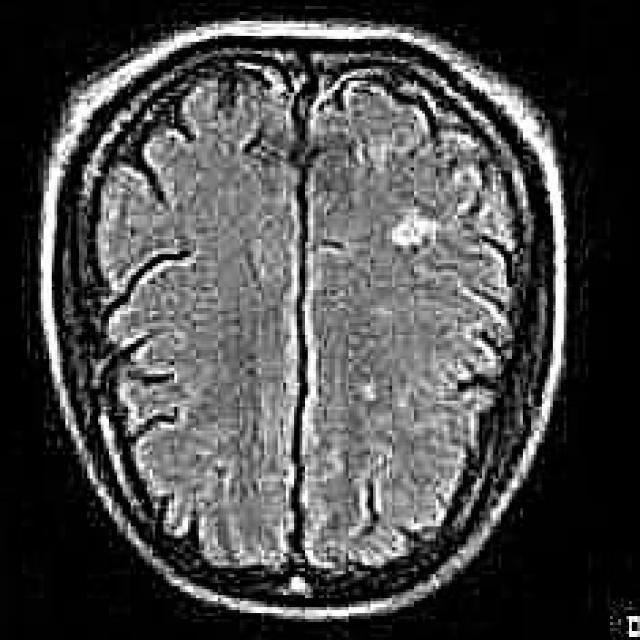notumor: (41, 21, 564, 619)
